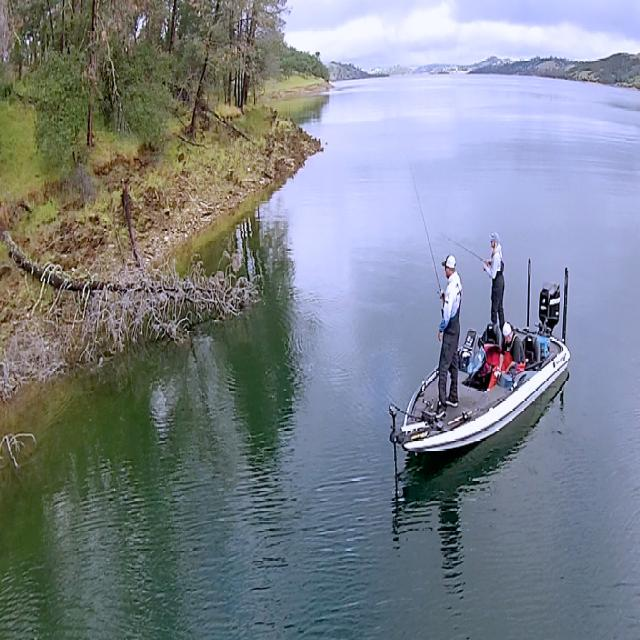Boat: (377, 273, 579, 460)
